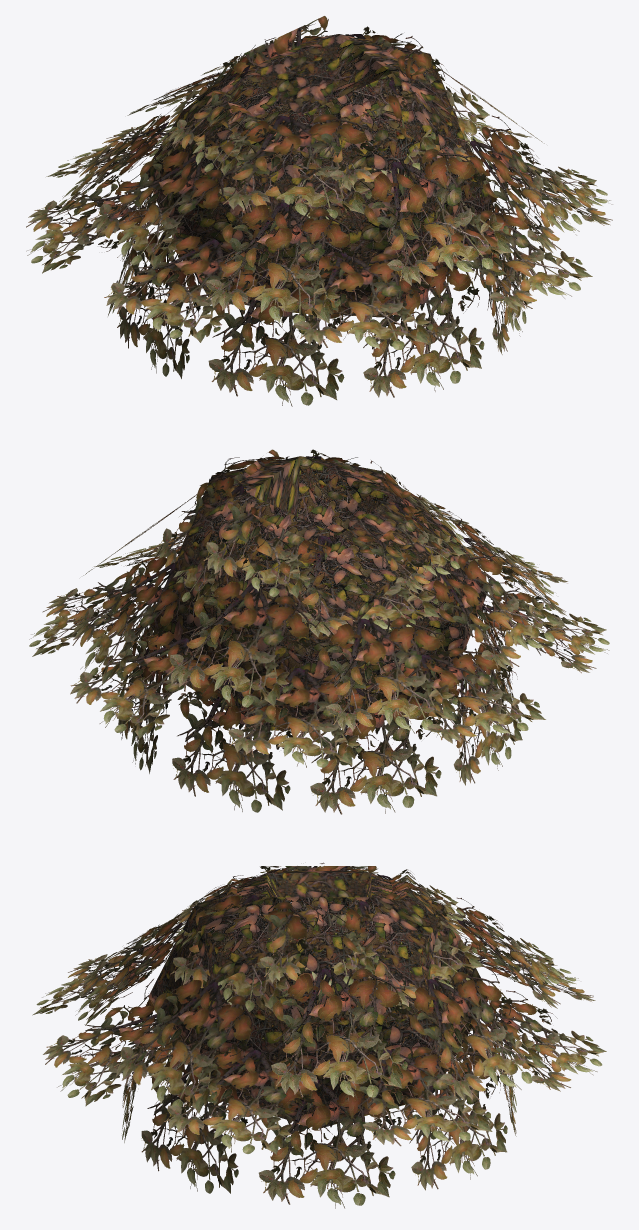
The model's file is poi_all_lair_leaf_small_l2.fbx.
The picture shows the model from 3 angles, top to bottom: view 1: azimuth 30°, elevation 25°; view 2: azimuth 150°, elevation 25°; view 3: azimuth 270°, elevation 25°; orthographic projection. The views are drawn at different scales.
Parts seen in each view (by area): view 1: mesh_node; view 2: mesh_node; view 3: mesh_node.
Boxes of the visible parts, x1,y1,x2,y2 form: mesh_node: (26,16,612,406); mesh_node: (29,449,609,814); mesh_node: (32,862,606,1208).
Size of the model in its own units: 3.2 by 1.53 by 3.2.
2 materials, 2 textured.
